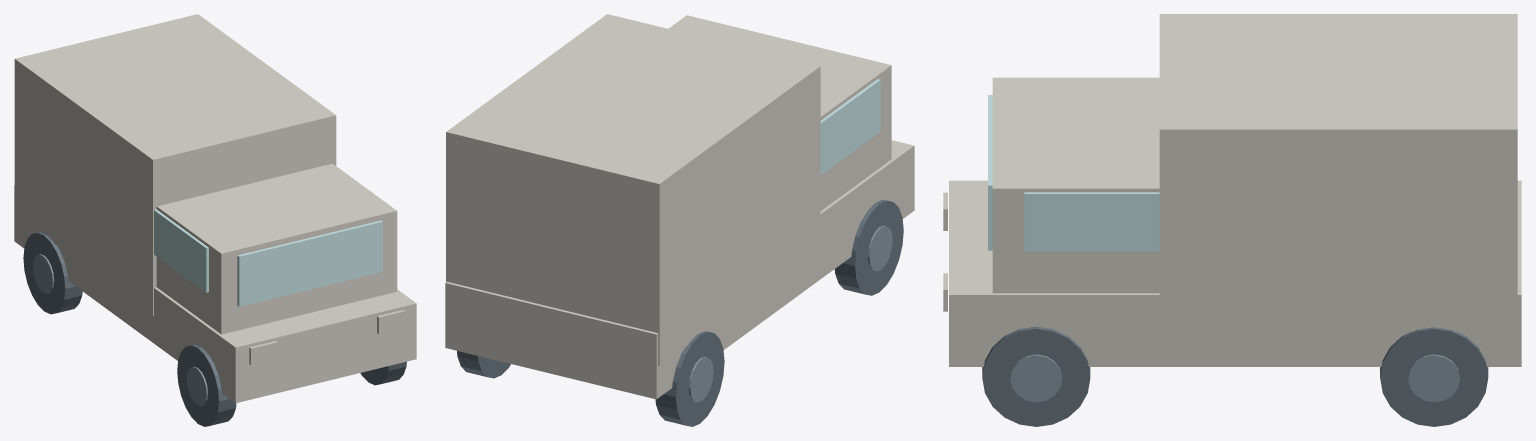
File: delivery_truck.glb
3 views of the same model, side by side, from view 1: azimuth 30°, elevation 25°; view 2: azimuth 150°, elevation 25°; view 3: azimuth 270°, elevation 25° (orthographic). The views are drawn at different scales.
Visible parts, largest first — view 1: delivery_truck_013, delivery_truck_009, delivery_truck_000, delivery_truck_010, delivery_truck_011, delivery_truck_001, delivery_truck_003, delivery_truck_005, delivery_truck_002, delivery_truck_004, delivery_truck_015, delivery_truck_014; view 2: delivery_truck_013, delivery_truck_000, delivery_truck_009, delivery_truck_001, delivery_truck_003, delivery_truck_011, delivery_truck_007, delivery_truck_002, delivery_truck_004; view 3: delivery_truck_013, delivery_truck_009, delivery_truck_000, delivery_truck_012, delivery_truck_005, delivery_truck_007, delivery_truck_006, delivery_truck_008, delivery_truck_010.
Boxes of the visible parts, box(x1,y1,x2,y2) form: delivery_truck_013: box(14, 14, 336, 315); delivery_truck_009: box(156, 163, 397, 334); delivery_truck_000: box(14, 185, 416, 403); delivery_truck_010: box(237, 220, 382, 306); delivery_truck_011: box(154, 209, 208, 292); delivery_truck_001: box(177, 344, 236, 426); delivery_truck_003: box(23, 232, 82, 314); delivery_truck_005: box(360, 361, 406, 385); delivery_truck_002: box(186, 366, 207, 405); delivery_truck_004: box(32, 254, 54, 293); delivery_truck_015: box(377, 309, 405, 333); delivery_truck_014: box(249, 341, 277, 365); delivery_truck_013: box(446, 14, 820, 365); delivery_truck_000: box(445, 140, 914, 399); delivery_truck_009: box(668, 15, 891, 210); delivery_truck_001: box(834, 199, 903, 295); delivery_truck_003: box(655, 331, 724, 426); delivery_truck_011: box(820, 79, 880, 175); delivery_truck_007: box(457, 351, 510, 378); delivery_truck_002: box(867, 225, 892, 271); delivery_truck_004: box(688, 356, 713, 402); delivery_truck_013: box(1159, 14, 1517, 331); delivery_truck_009: box(992, 77, 1159, 293); delivery_truck_000: box(949, 180, 1521, 366); delivery_truck_012: box(1024, 192, 1159, 251); delivery_truck_005: box(982, 326, 1090, 426); delivery_truck_007: box(1380, 327, 1488, 426); delivery_truck_006: box(1010, 354, 1062, 402); delivery_truck_008: box(1408, 354, 1459, 402); delivery_truck_010: box(988, 95, 992, 250).
Bounding box in the file's own units: 1.8 × 2.05 × 3.64.
